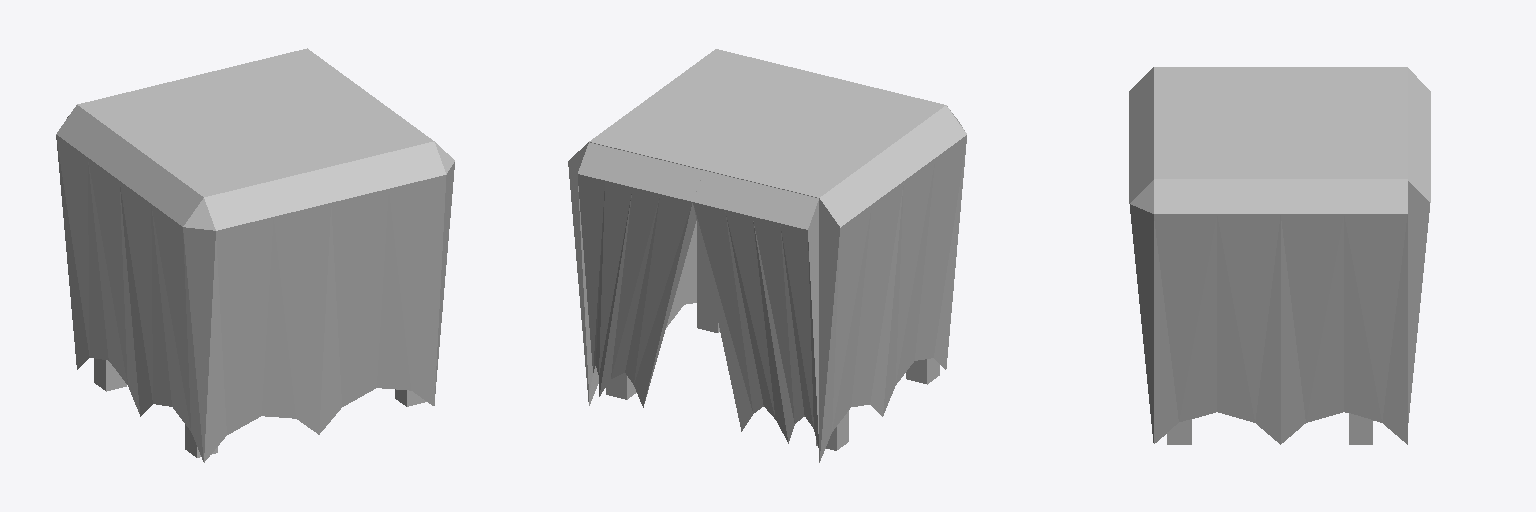
File: medicTend.obj
3 views of the same model, side by side, from view 1: azimuth 30°, elevation 25°; view 2: azimuth 150°, elevation 25°; view 3: azimuth 270°, elevation 25° (orthographic).
Visible parts, largest first — view 1: object2, object1; view 2: object2, object2.002, object2.001, object1.003, object1.004, object1.002; view 3: object2, object2.001, object2.002, object1.002.
Boxes of the visible parts, box(x1,y1,x2,y2) form: object2: box(56, 48, 454, 462); object1: box(94, 358, 126, 391); object2: box(568, 49, 966, 462); object2.002: box(693, 170, 818, 447); object2.001: box(578, 142, 703, 407); object1.003: box(697, 224, 719, 332); object1.004: box(906, 358, 939, 384); object1.002: box(606, 373, 636, 399); object2: box(1129, 67, 1407, 444); object2.001: box(1408, 125, 1430, 422); object2.002: box(1408, 68, 1430, 146); object1.002: box(1349, 413, 1372, 444).
Size of the model in its own units: 69.61 by 64.89 by 66.65.